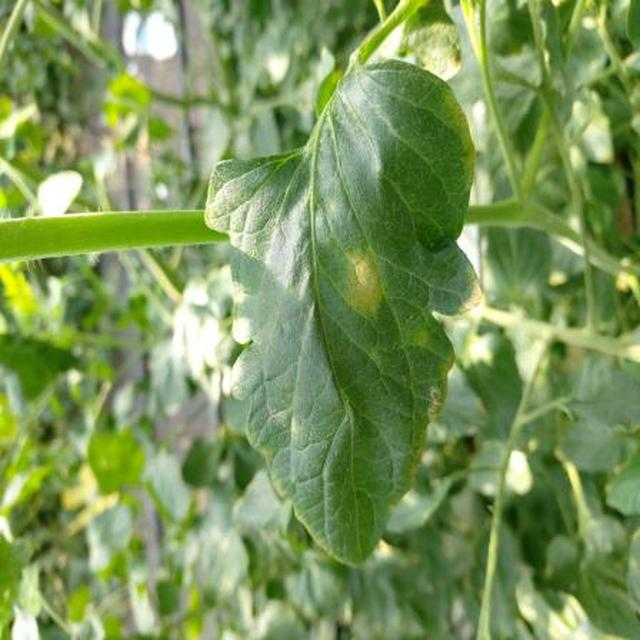Leaf Mold: (294, 127, 640, 640)
